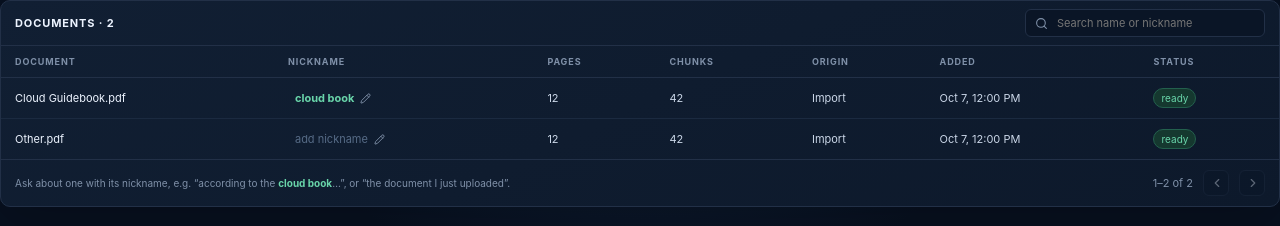
Test case: DocumentsTable nicknames › opens an editor prefilled with the current nickname
The image size is (1280, 226).
Click the button "cloud book" at (333, 98), box [288,87,378,109]
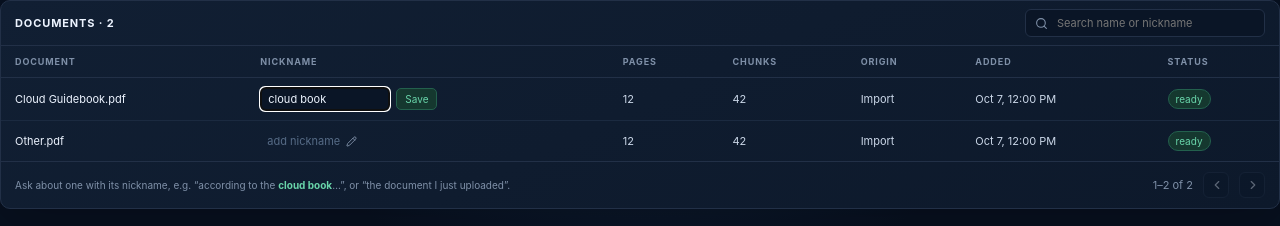
Now the field with placeholder "e.g. cloud book" holds "cloud book", box [260,87,390,111]
